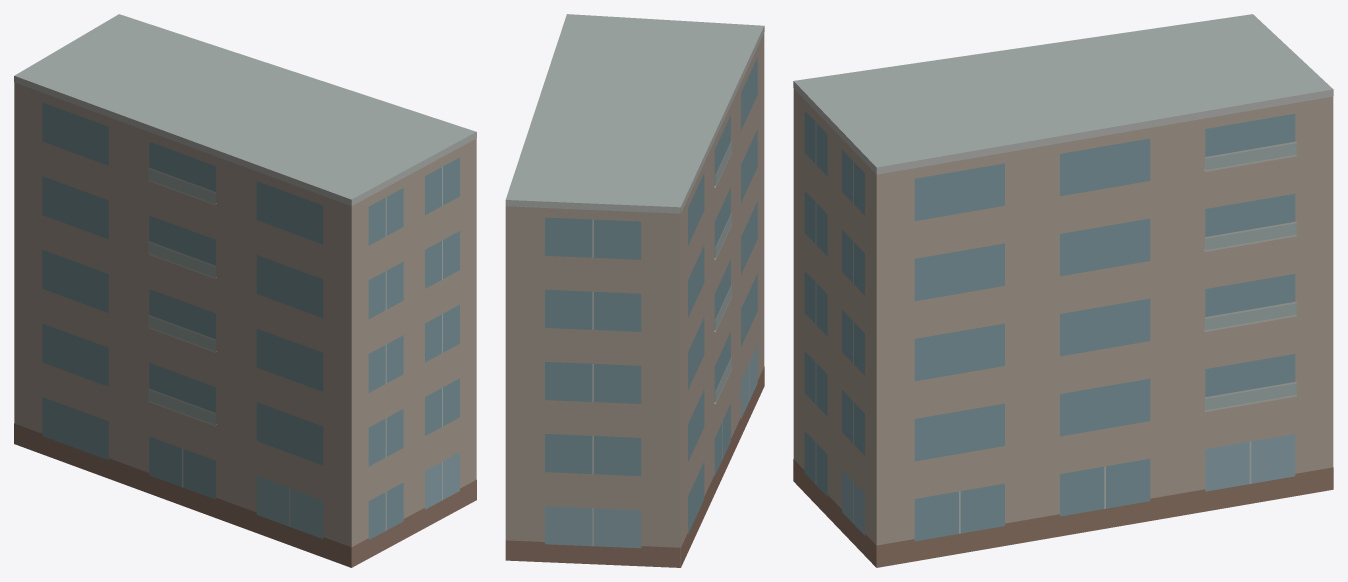
Rendered from survey-upis-32885964.glb.
3 views of the same model, side by side, from view 1: azimuth 30°, elevation 25°; view 2: azimuth 150°, elevation 25°; view 3: azimuth 270°, elevation 25° (orthographic). The views are drawn at different scales.
Parts seen in each view (by area): view 1: survey-upis-32885964.tmp; view 2: survey-upis-32885964.tmp; view 3: survey-upis-32885964.tmp.
Part boxes in pixels (x1=…): survey-upis-32885964.tmp: x1=14, y1=14, x2=476, y2=567; survey-upis-32885964.tmp: x1=505, y1=14, x2=764, y2=567; survey-upis-32885964.tmp: x1=793, y1=14, x2=1333, y2=567.
Size of the model in its own units: 11.28 by 13.7 by 16.76.
